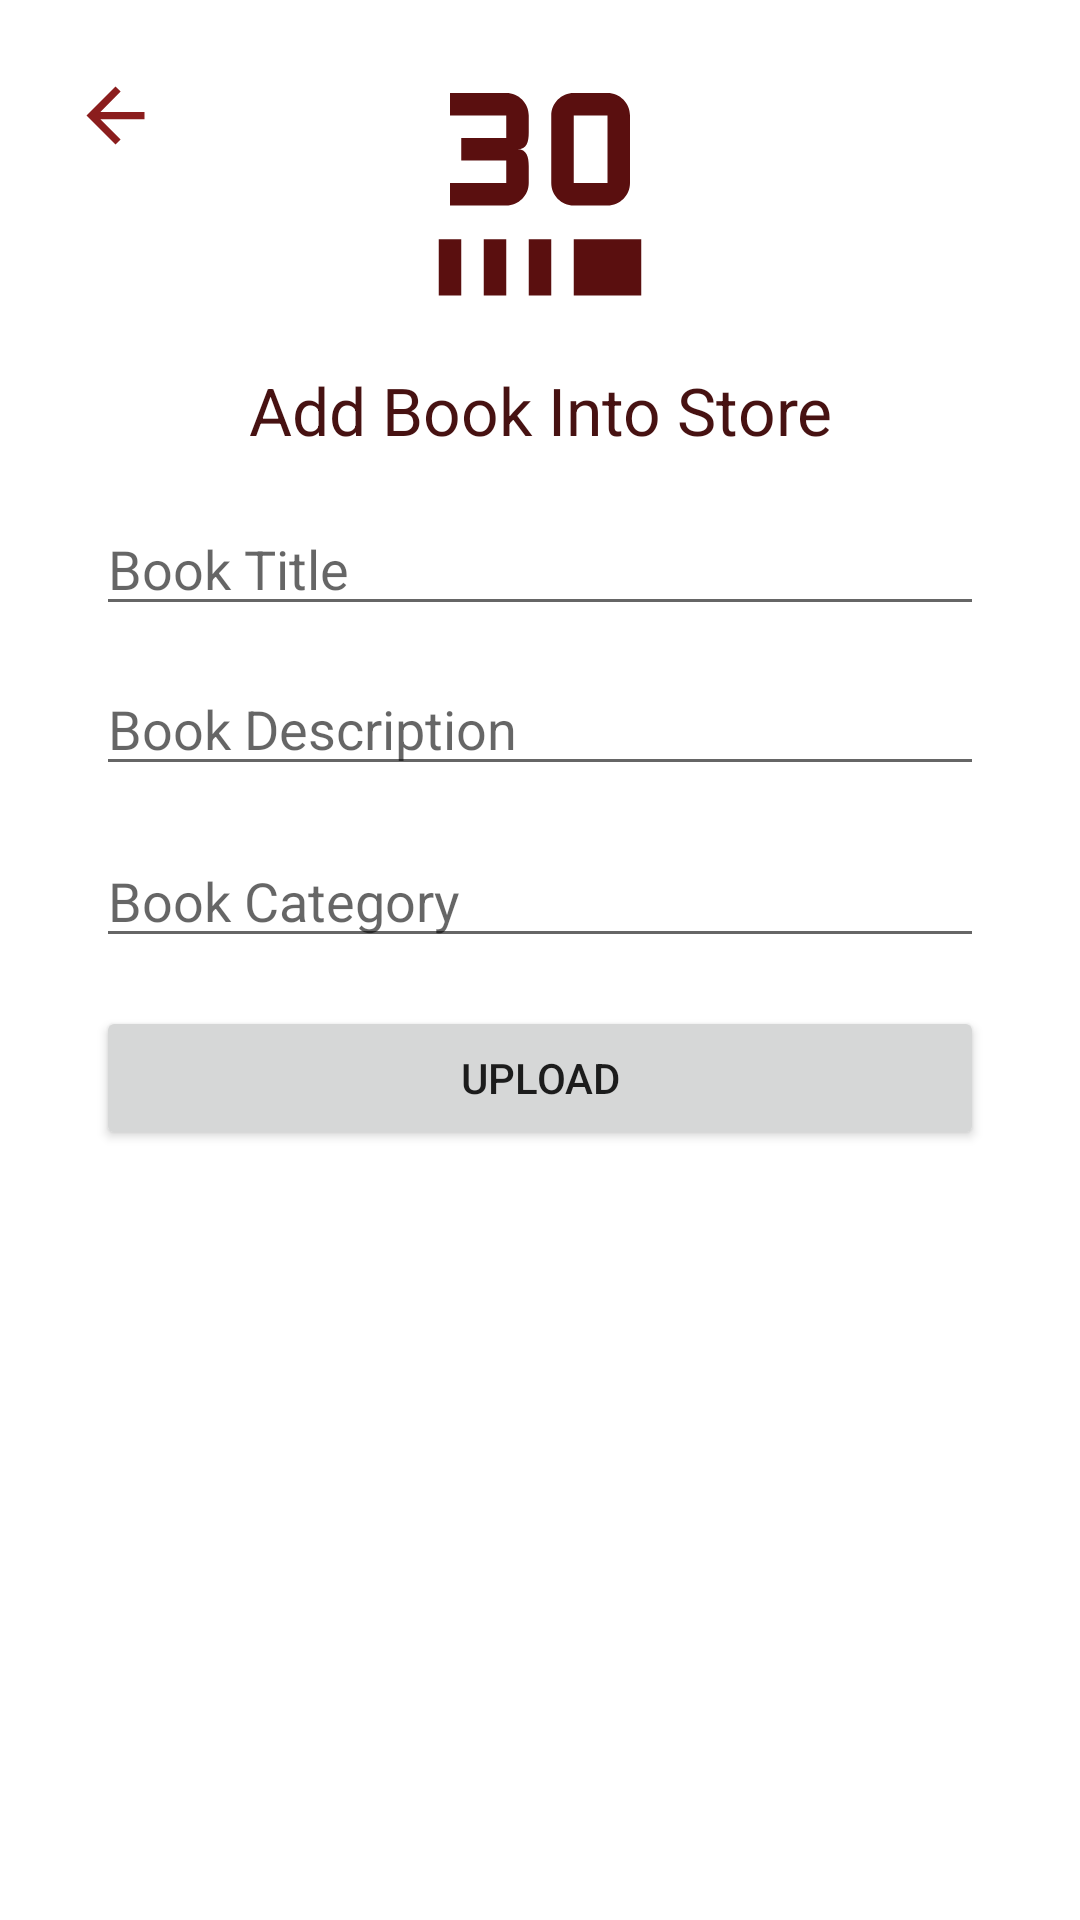

Screen size 1080 × 1920. Icon name, then its center in pixels as [x,y]:
arrow back: [115,115]
